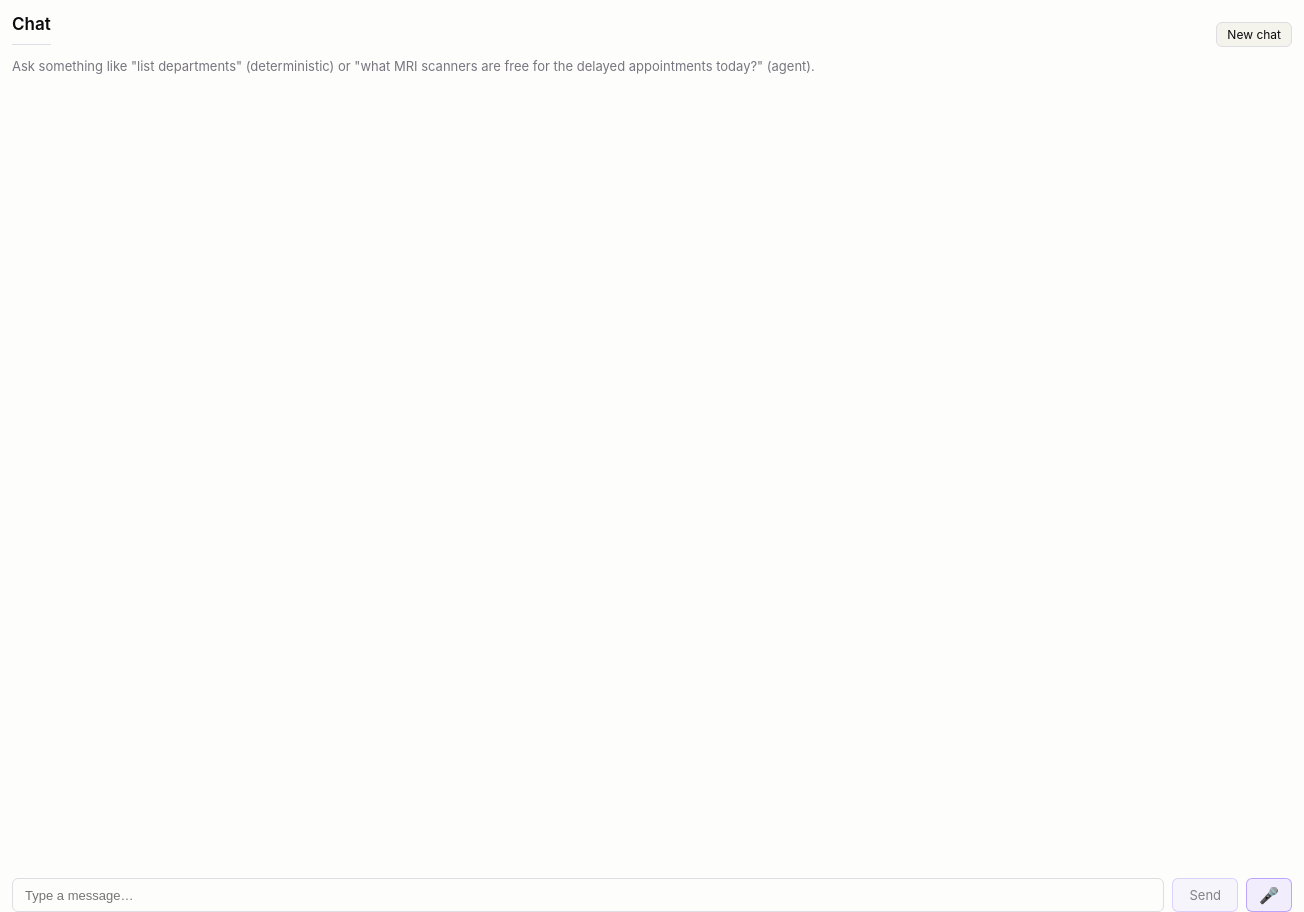
Test: BedActionConfirmation in the chat › Confirm posts the right ids, shows the message, removes the card and reports touched codes
This screenshot has width=1304, height=912.
Type "admit PT-1029" into the field with placeholder "Type a message…" at (588, 895), box [12,878,1164,911]
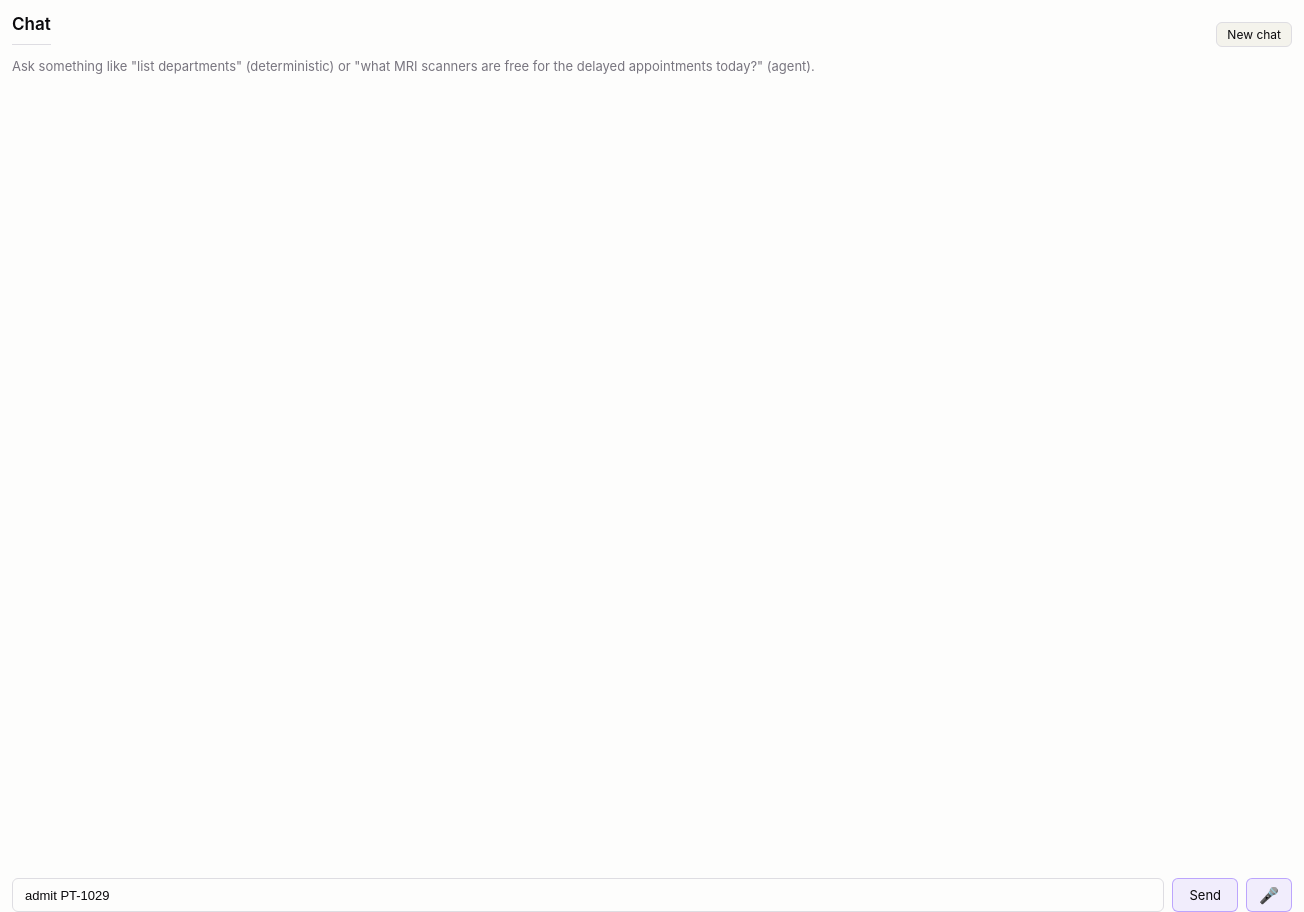
Click the button "Send" at (1205, 895), box [1172,878,1238,911]
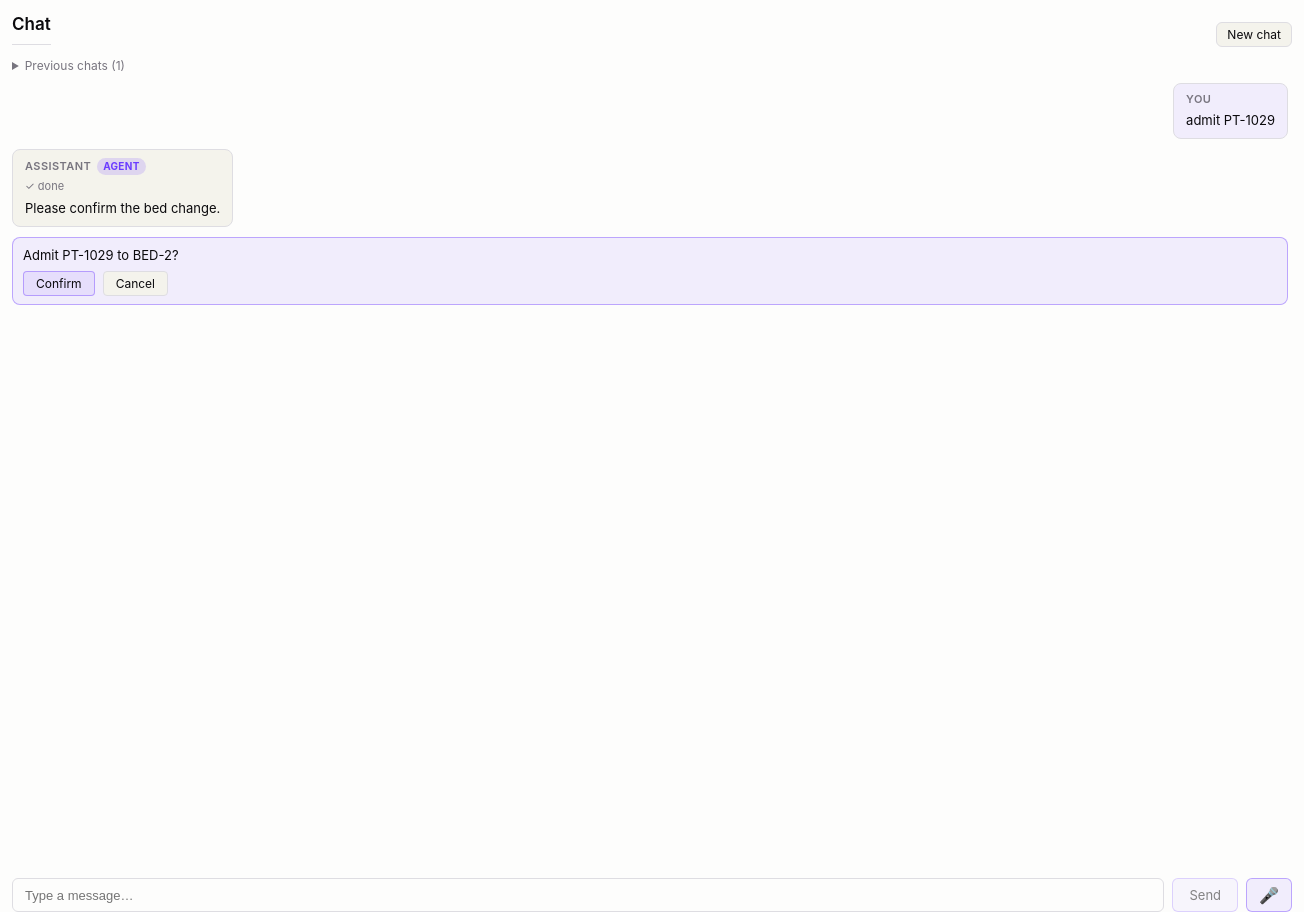
Expected: the text "Please confirm the bed change." is shown, [25,199,220,218]
Click the button with aria-label "Confirm admitting PT-1029 to BED-2" at (59, 284), box [23,271,95,296]
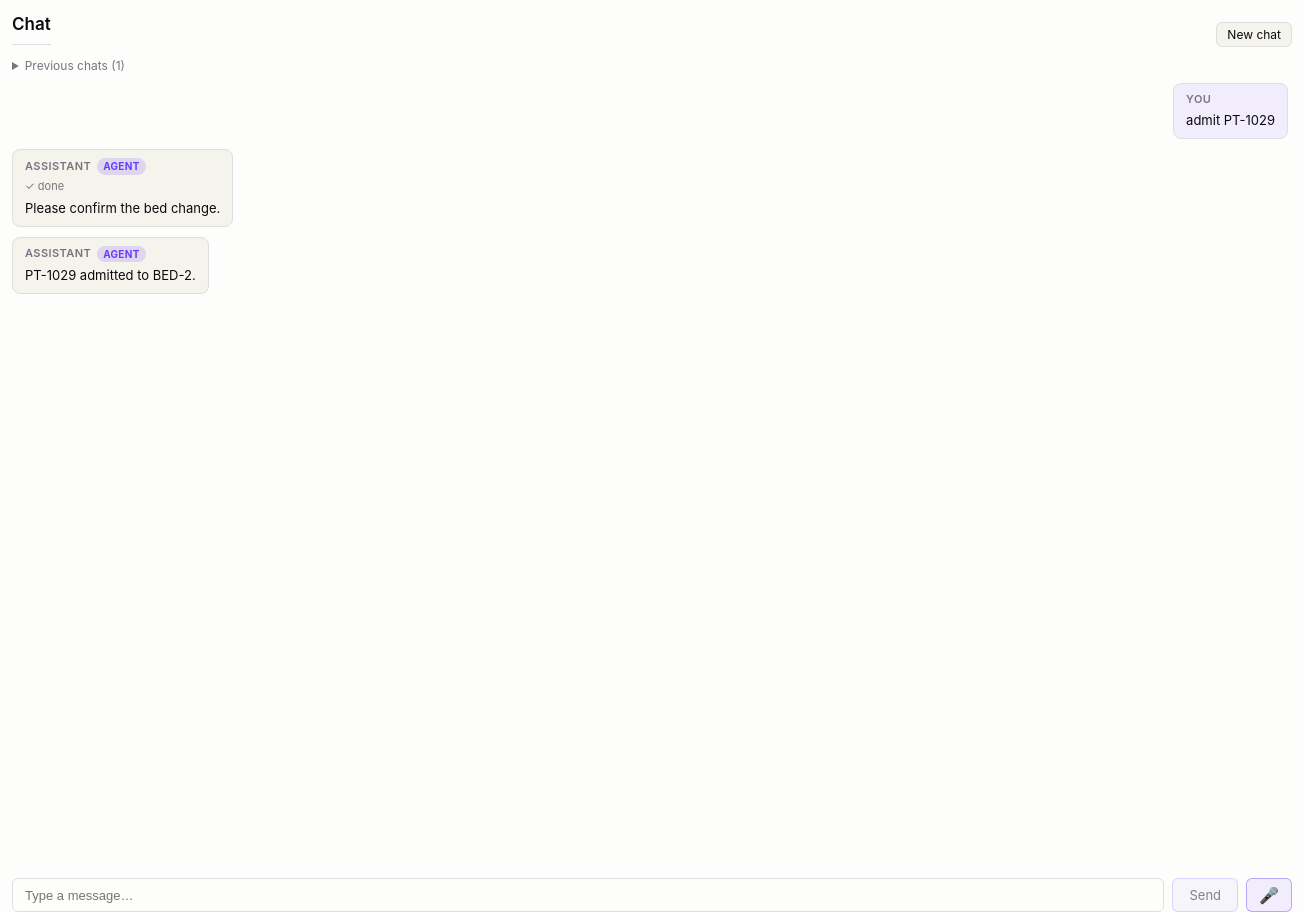
Expected: the text "PT-1029 admitted to BED-2." is shown, [25,266,196,285]
